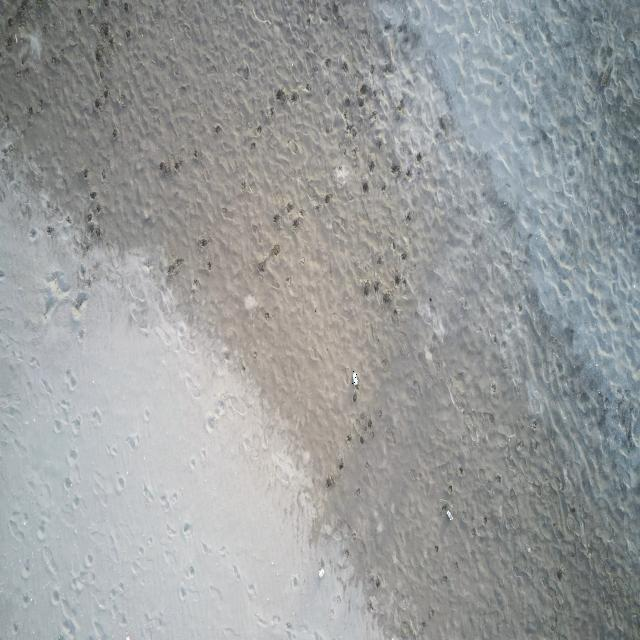Garbage: (352, 369, 357, 386), (446, 508, 452, 520), (319, 568, 324, 577)
